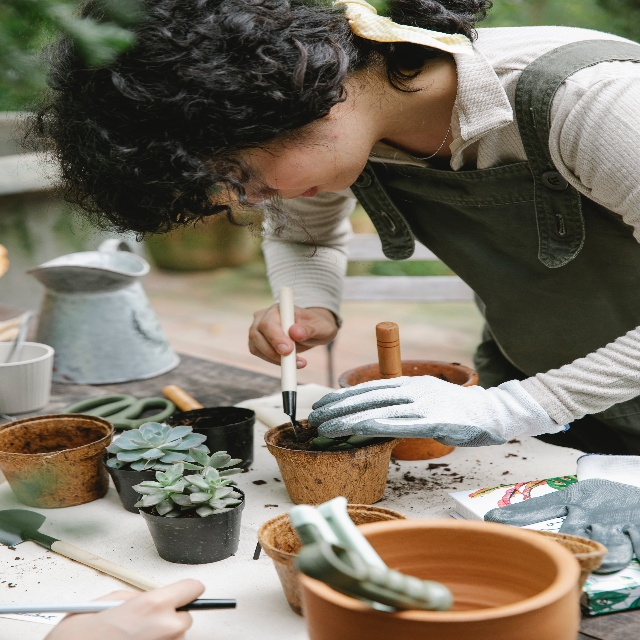Guantes: (307, 374, 570, 449), (484, 452, 640, 575)
Sin_guantes: (248, 303, 339, 369)
